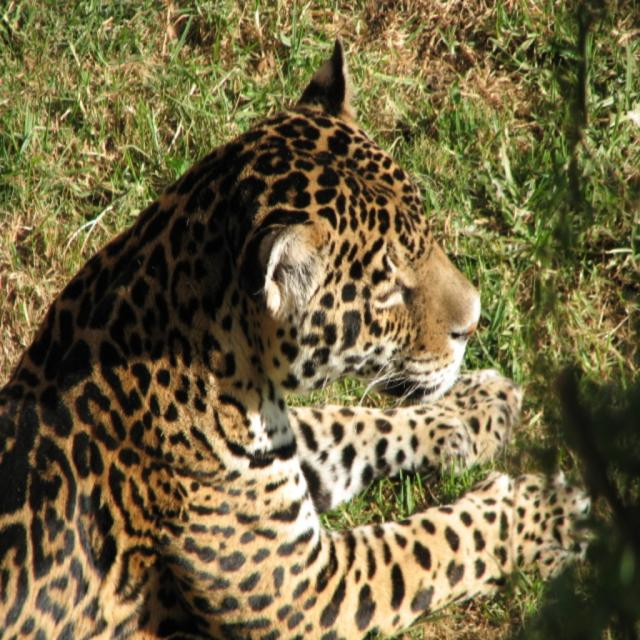Cheetah: (2, 38, 587, 635)
